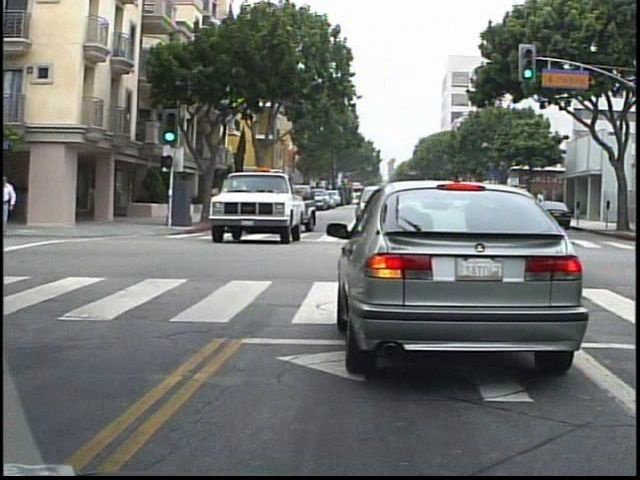person: (5, 172, 25, 243)
